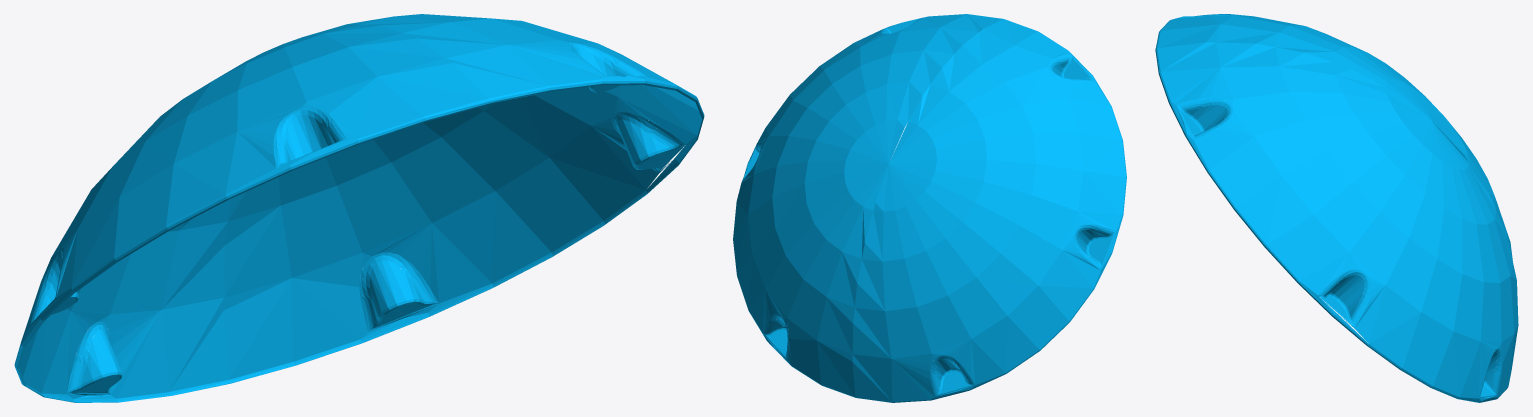
The picture shows the model from 3 angles, left to right: view 1: azimuth 30°, elevation 25°; view 2: azimuth 150°, elevation 25°; view 3: azimuth 270°, elevation 25°; orthographic projection. The views are drawn at different scales.
Parts seen in each view (by area): view 1: HC10.001; view 2: HC10.001; view 3: HC10.001.
Boxes of the visible parts, left/top/right/bottom form: HC10.001: left=14, top=14, right=704, bottom=402; HC10.001: left=733, top=14, right=1126, bottom=402; HC10.001: left=1155, top=14, right=1518, bottom=402.
Size of the model in its own units: 20.96 by 15.15 by 15.15.
